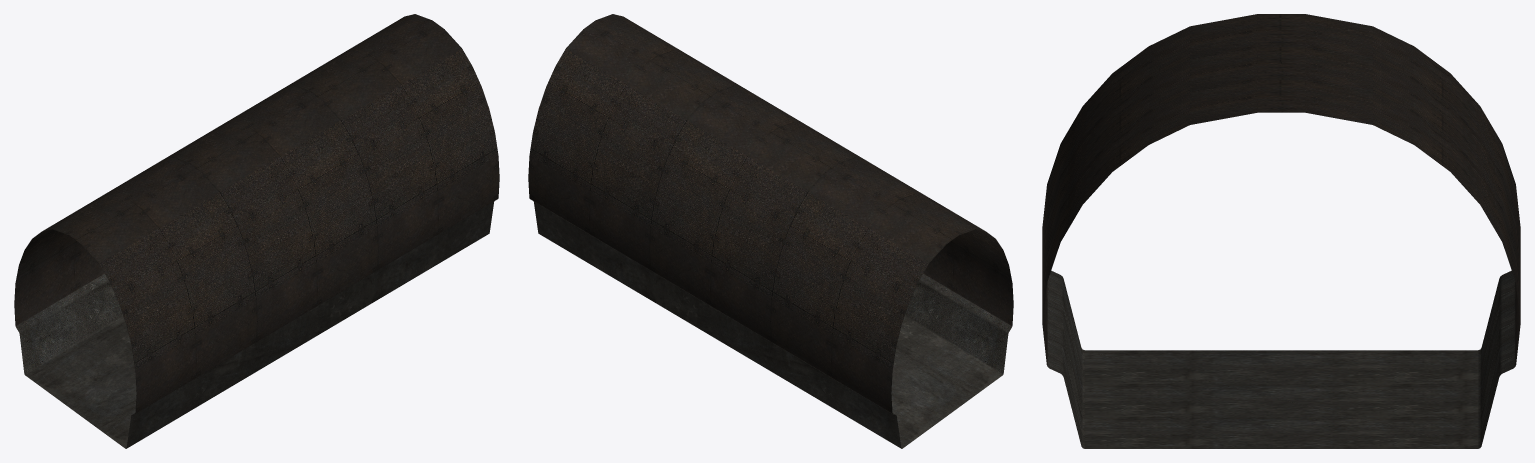
File: tunnel_straight_down_2.glb
3 renders of one model, left to right at view 1: azimuth 30°, elevation 25°; view 2: azimuth 150°, elevation 25°; view 3: azimuth 270°, elevation 25°, orthographic. The views are drawn at different scales.
Visible parts, largest first — view 1: tunnel_straight_down_2; view 2: tunnel_straight_down_2; view 3: tunnel_straight_down_2.
Part boxes in pixels (x1,y1,x2,y2): tunnel_straight_down_2: (14, 14, 499, 448); tunnel_straight_down_2: (528, 14, 1013, 448); tunnel_straight_down_2: (1042, 14, 1520, 448).
Size of the model in its own units: 6 by 4.72 by 3.5.
Materials: 2 (2 with a texture image).
